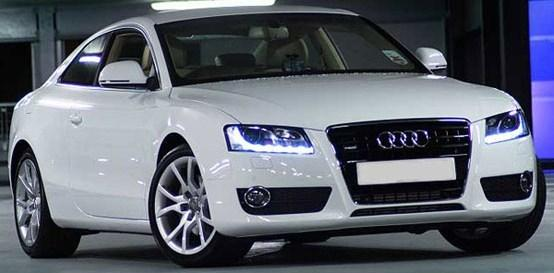Audi: (371, 124, 438, 155)
